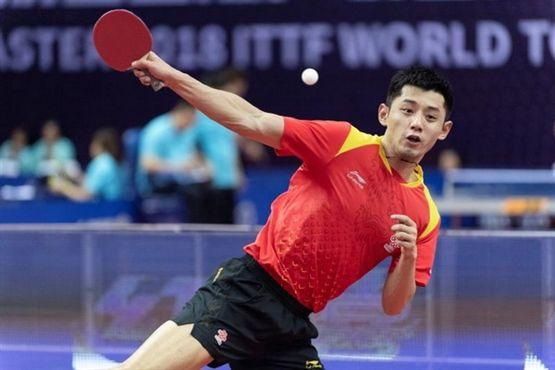ball: (297, 64, 320, 86)
